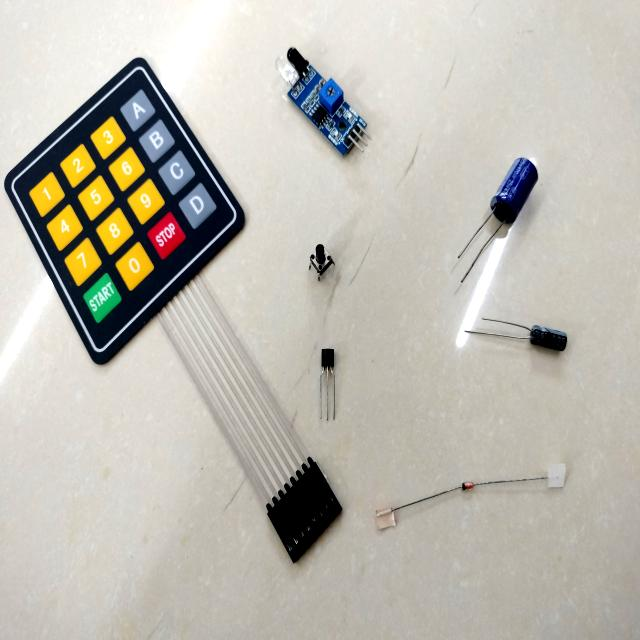capacitor: (483, 157, 538, 238), (530, 325, 567, 351)
